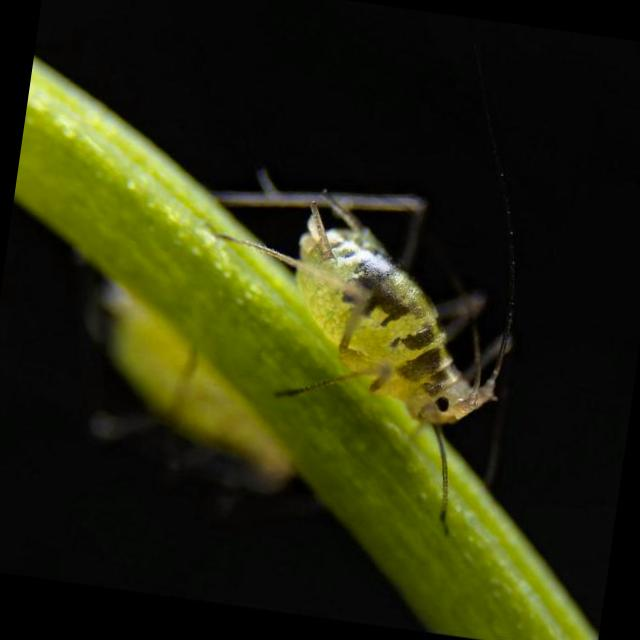aphid: (206, 162, 545, 532)
